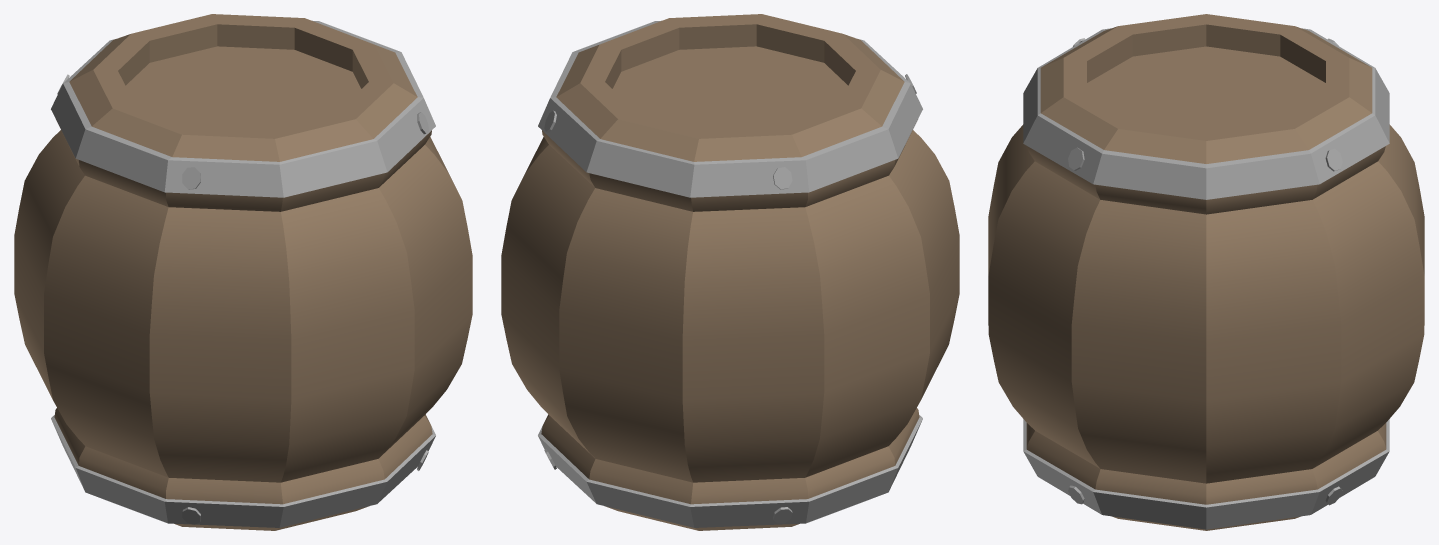
Rendered from small_barrel_01_closed 1.fbx.
3 views of the same model, side by side, from view 1: azimuth 30°, elevation 25°; view 2: azimuth 150°, elevation 25°; view 3: azimuth 270°, elevation 25° (orthographic).
Visible parts, largest first — view 1: small_barrel_01_closed; view 2: small_barrel_01_closed; view 3: small_barrel_01_closed.
Part boxes in pixels (x1,y1,x2,y2): small_barrel_01_closed: (14,14,472,530); small_barrel_01_closed: (501,14,959,530); small_barrel_01_closed: (988,14,1424,530).
Size of the model in its own units: 154 by 145 by 147.
